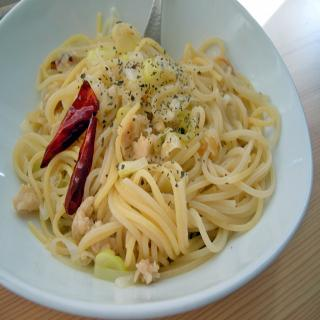Pasta: (12, 8, 280, 284)
